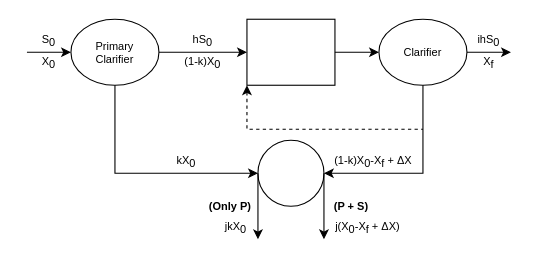
Some shapes in this 539 by 267 pixel diagram are drawn without their labels. Here are the shapes that lost their labels. From the top down, the centre of each, then its label:
pixel 290 51: Aeration or Trickling Filter
pixel 290 172: Digester
